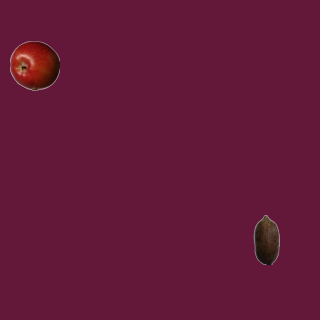Apple Braeburn: (9, 40, 59, 90)
Nut Pecan: (241, 214, 291, 264)
